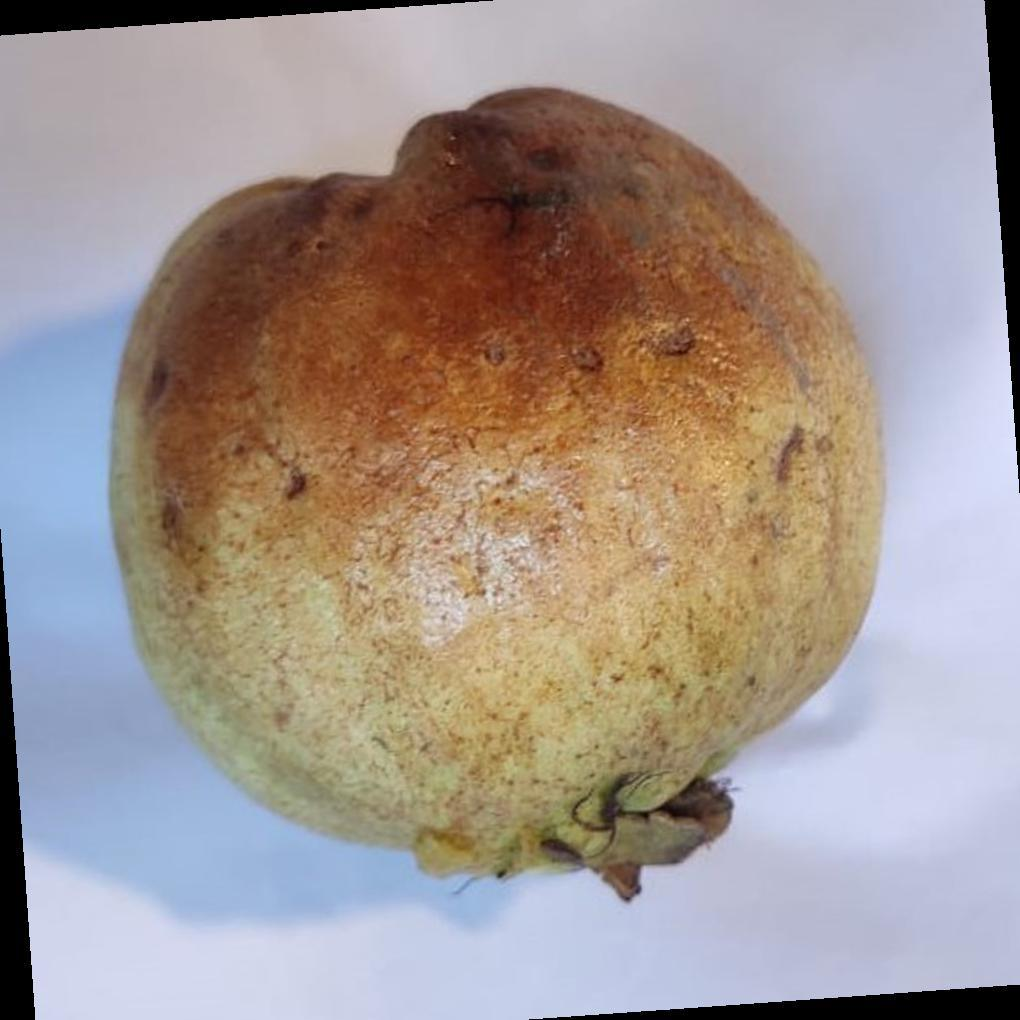FreshOrange: (107, 86, 889, 903)
